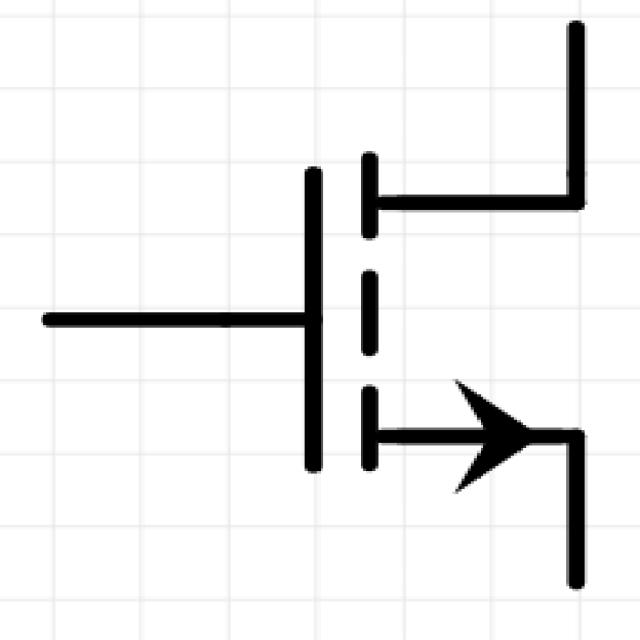nmos: (43, 19, 622, 608)
